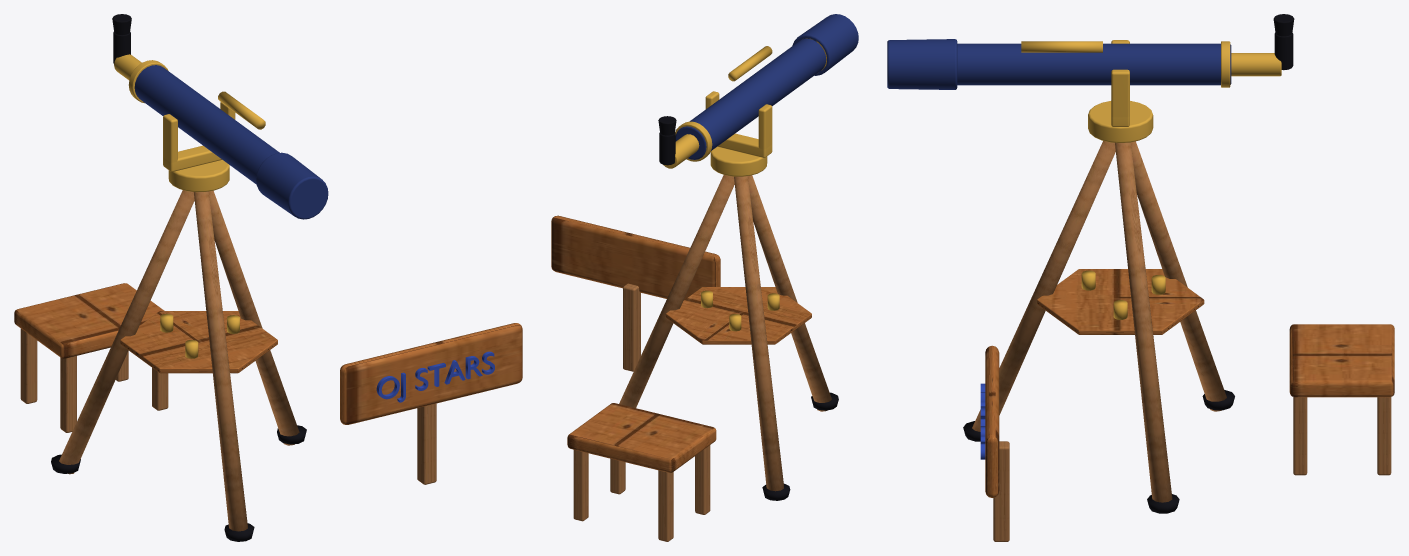
File: telescope.glb
3 renders of one model, left to right at view 1: azimuth 30°, elevation 25°; view 2: azimuth 150°, elevation 25°; view 3: azimuth 270°, elevation 25°, orthographic. The views are drawn at different scales.
Parts seen in each view (by area): view 1: ts_sign, ts_leg.002, ts_tube, ts_step, ts_tray, ts_leg.001, ts_leg, ts_dew, Text, ts_sign_post, ts_head, ts_step_leg (+5 smaller); view 2: ts_sign, ts_step, ts_tube, ts_leg.001, ts_tray, ts_leg, ts_leg.002, ts_dew, ts_sign_post, ts_head, ts_step_leg.001, ts_step_leg.003 (+8 smaller); view 3: ts_tube, ts_step, ts_leg, ts_tray, ts_leg.002, ts_leg.001, ts_dew, ts_sign, ts_head, ts_sign_post, ts_focuser, ts_step_leg.002 (+4 smaller).
Part boxes in pixels (left/top/right/bottom): ts_sign: left=340, top=323, right=522, bottom=424; ts_leg.002: left=194, top=191, right=247, bottom=531; ts_tube: left=134, top=65, right=279, bottom=184; ts_step: left=14, top=283, right=164, bottom=358; ts_tray: left=120, top=311, right=277, bottom=373; ts_leg.001: left=59, top=190, right=194, bottom=474; ts_leg: left=209, top=190, right=299, bottom=445; ts_dew: left=256, top=152, right=328, bottom=219; Text: left=376, top=351, right=494, bottom=402; ts_sign_post: left=417, top=403, right=436, bottom=484; ts_head: left=168, top=160, right=229, bottom=192; ts_step_leg: left=60, top=356, right=76, bottom=432; ts_sign: left=551, top=215, right=720, bottom=300; ts_step: left=567, top=403, right=716, bottom=472; ts_tube: left=675, top=38, right=826, bottom=159; ts_leg.001: left=734, top=176, right=783, bottom=491; ts_tray: left=665, top=287, right=811, bottom=344; ts_leg: left=619, top=175, right=734, bottom=407; ts_leg.002: left=748, top=175, right=831, bottom=411; ts_dew: left=792, top=14, right=858, bottom=75; ts_sign_post: left=623, top=283, right=640, bottom=371; ts_head: left=710, top=146, right=767, bottom=176; ts_step_leg.001: left=658, top=470, right=673, bottom=541; ts_step_leg.003: left=573, top=450, right=588, bottom=521; ts_tube: left=957, top=43, right=1231, bottom=85; ts_step: left=1289, top=324, right=1394, bottom=397; ts_leg: left=1115, top=142, right=1172, bottom=502; ts_tray: left=1037, top=269, right=1204, bottom=334; ts_leg.002: left=972, top=141, right=1115, bottom=431; ts_leg.001: left=1131, top=141, right=1226, bottom=411; ts_dew: left=887, top=39, right=957, bottom=89; ts_sign: left=985, top=345, right=999, bottom=497; ts_head: left=1088, top=101, right=1153, bottom=142; ts_sign_post: left=993, top=441, right=1009, bottom=541; ts_focuser: left=1231, top=53, right=1281, bottom=76; ts_step_leg.002: left=1293, top=397, right=1307, bottom=475.
Bounding box in the file's own units: 1.9 × 2.06 × 2.17.
7 materials, 2 textured.
